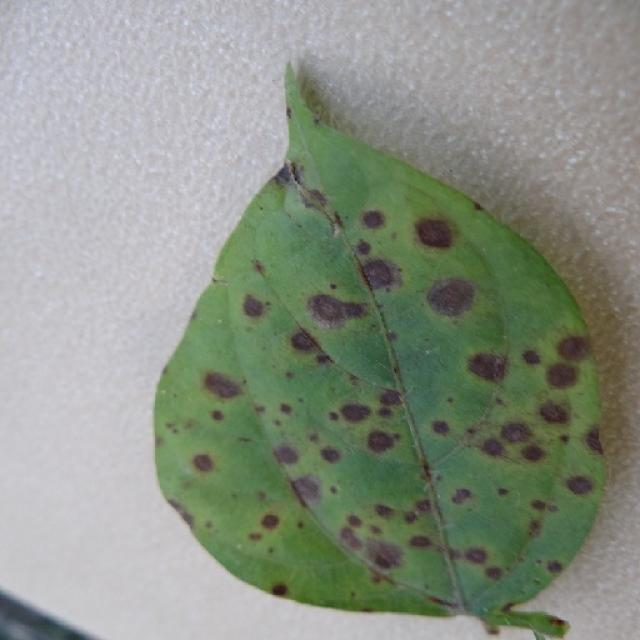Anthracnose: (299, 252, 412, 353), (420, 277, 485, 318), (308, 292, 360, 326), (294, 69, 328, 119), (413, 216, 455, 249), (360, 257, 403, 289), (467, 351, 507, 383), (203, 369, 243, 400), (288, 474, 323, 508), (368, 538, 406, 569), (545, 362, 579, 390), (556, 334, 588, 362), (538, 400, 569, 425), (366, 429, 396, 454), (164, 416, 201, 436), (499, 422, 531, 445), (242, 293, 268, 319), (290, 330, 318, 354), (273, 443, 300, 467), (339, 403, 372, 422), (340, 526, 362, 551), (567, 475, 593, 496), (306, 188, 329, 211), (191, 452, 215, 473), (361, 209, 385, 230), (174, 505, 195, 529), (166, 497, 187, 521), (520, 444, 546, 463), (481, 437, 505, 457), (378, 388, 403, 407), (464, 547, 488, 565), (450, 487, 473, 505), (320, 446, 342, 464), (526, 518, 544, 540), (273, 166, 291, 187), (588, 434, 605, 456), (521, 348, 542, 365), (260, 513, 280, 530), (408, 535, 432, 549), (374, 503, 394, 518), (355, 239, 372, 256), (431, 420, 450, 435), (485, 566, 503, 580), (415, 499, 432, 513), (209, 409, 225, 423), (346, 514, 363, 527), (314, 352, 331, 365), (253, 260, 266, 277), (530, 499, 547, 511), (547, 560, 562, 573), (271, 584, 285, 596), (279, 402, 293, 414), (248, 532, 263, 541), (496, 486, 509, 496), (501, 603, 514, 613), (551, 619, 564, 629), (559, 434, 570, 445), (472, 201, 484, 211), (155, 435, 164, 448), (328, 411, 339, 421), (257, 490, 267, 501), (286, 106, 292, 119), (297, 520, 305, 529), (329, 282, 338, 290), (285, 371, 294, 379), (487, 634, 499, 640), (447, 396, 454, 403)
Blackgram: (155, 66, 604, 636)
